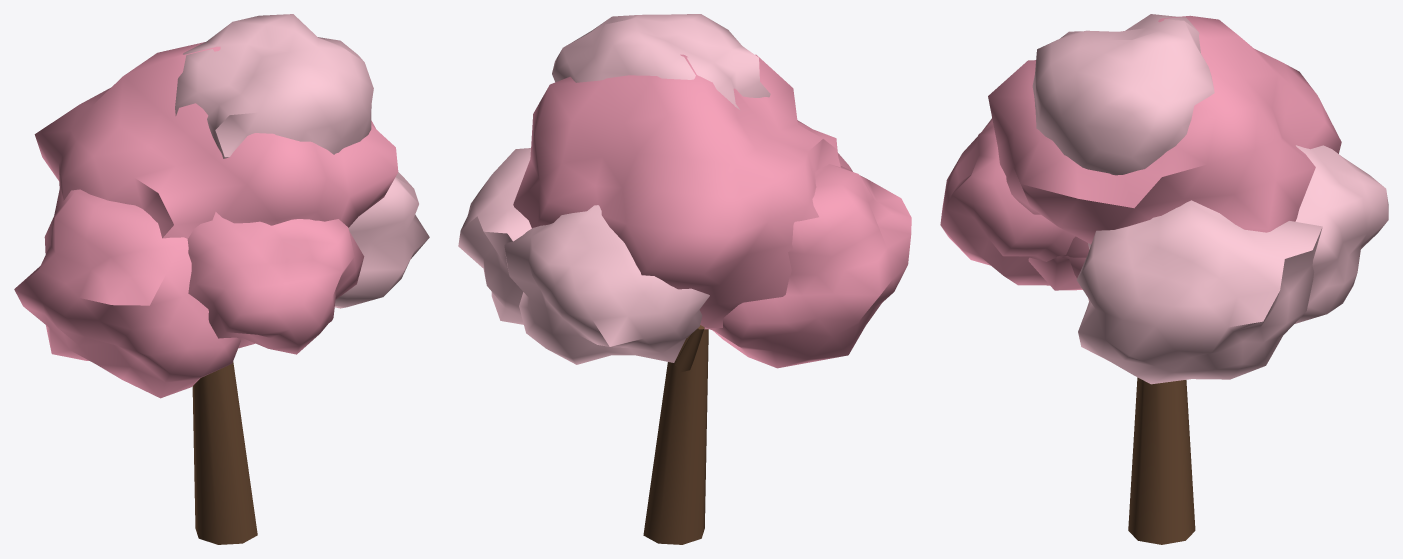
The model's file is tree_2.glb.
3 views of the same model, side by side, from view 1: azimuth 30°, elevation 25°; view 2: azimuth 150°, elevation 25°; view 3: azimuth 270°, elevation 25° (orthographic). The views are drawn at different scales.
Visible parts, largest first — view 1: Tree; view 2: Tree; view 3: Tree.
Boxes of the visible parts, x1=… form: Tree: x1=14, y1=14, x2=429, y2=544; Tree: x1=458, y1=14, x2=911, y2=544; Tree: x1=940, y1=14, x2=1388, y2=544.
Bounding box in the file's own units: 4.89 × 5.81 × 4.53.
